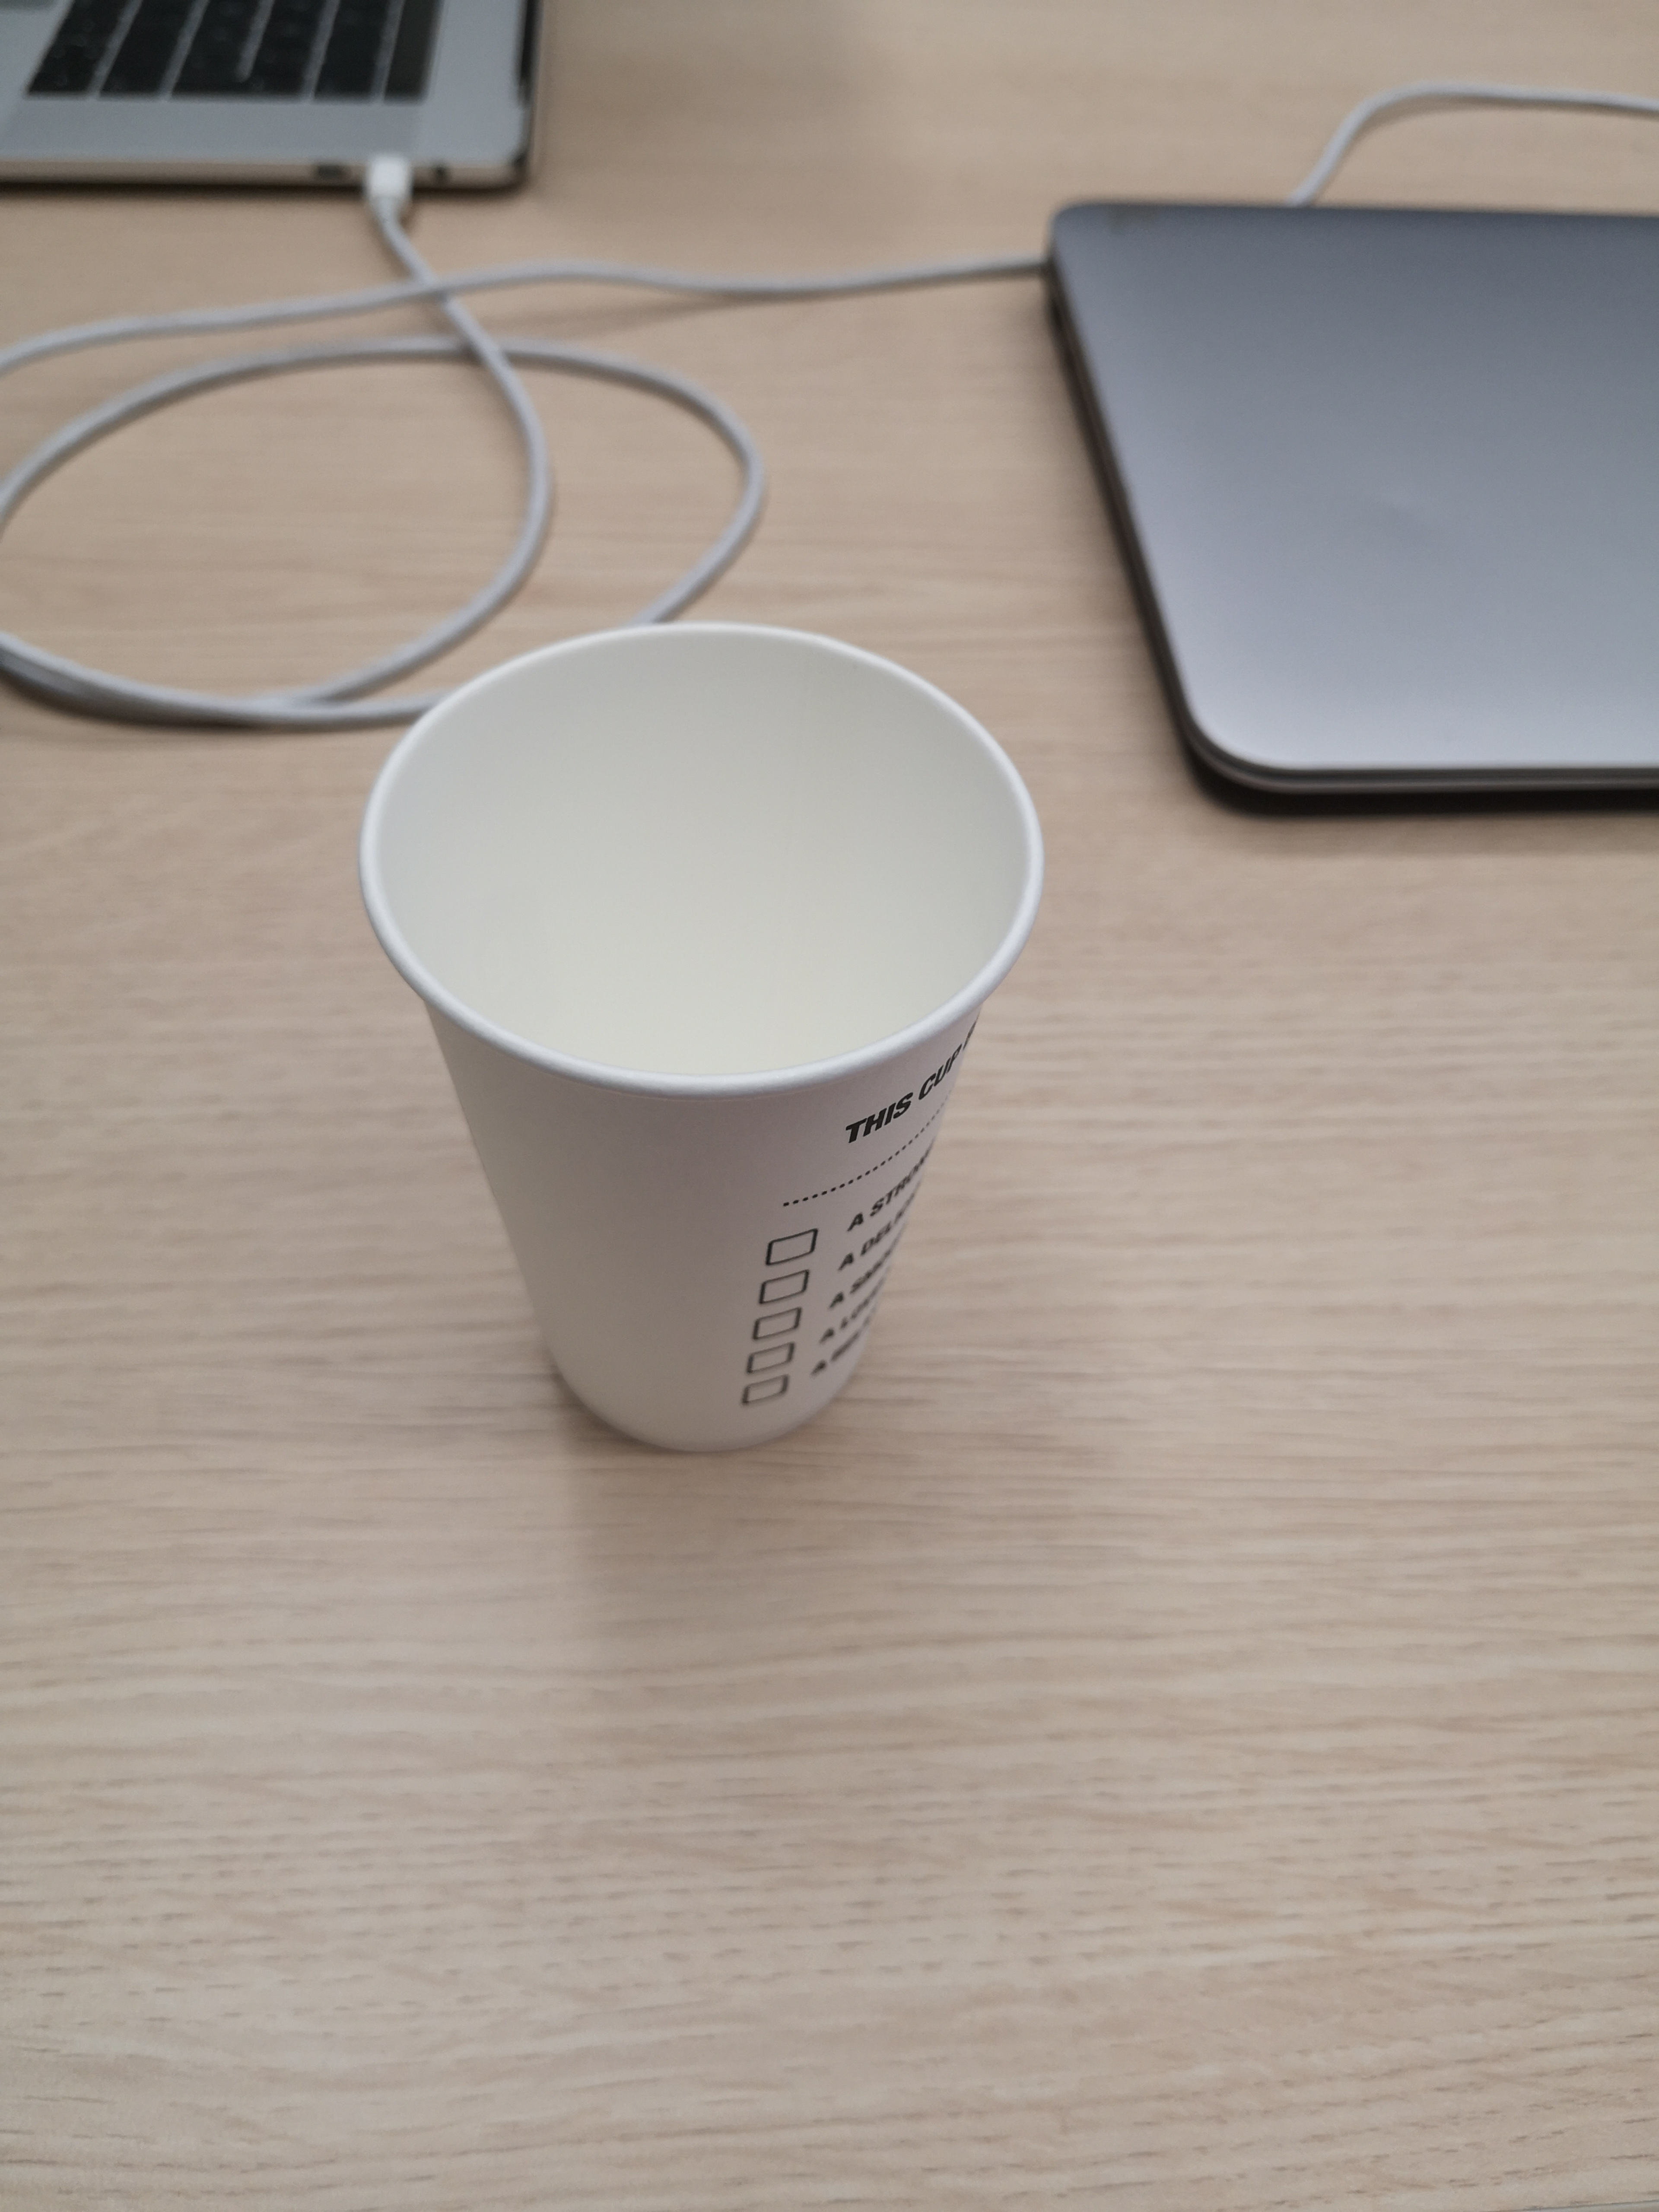cup: (347, 578, 1054, 1514)
